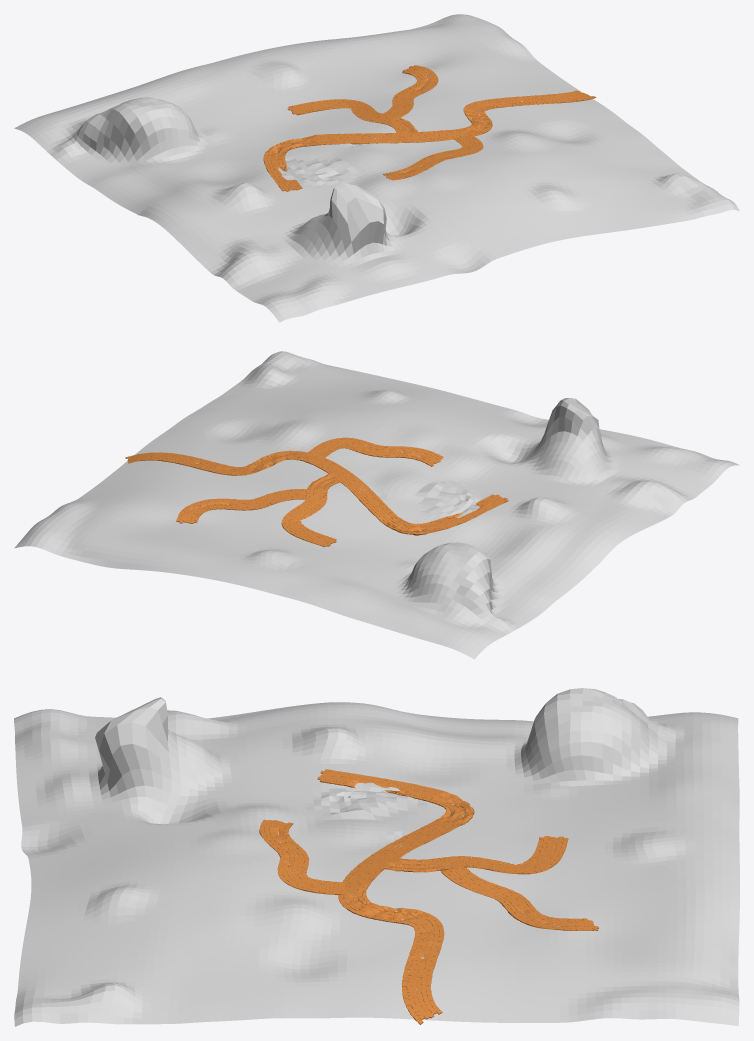
Rendered from Terreno5.3.fbx.
The picture shows the model from 3 angles, top to bottom: view 1: azimuth 30°, elevation 25°; view 2: azimuth 150°, elevation 25°; view 3: azimuth 270°, elevation 25°; orthographic projection. The views are drawn at different scales.
Parts seen in each view (by area): view 1: Plane, Cube.003; view 2: Plane, Cube.003; view 3: Plane, Cube.003.
Part boxes in pixels (x1,y1,x2,y2): Plane: (14, 14, 739, 322); Cube.003: (263, 65, 595, 191); Plane: (14, 351, 739, 659); Cube.003: (125, 437, 508, 547); Plane: (14, 688, 739, 1026); Cube.003: (259, 769, 598, 1024).
Bounding box in the file's own units: 30473 × 4662 × 30081.
